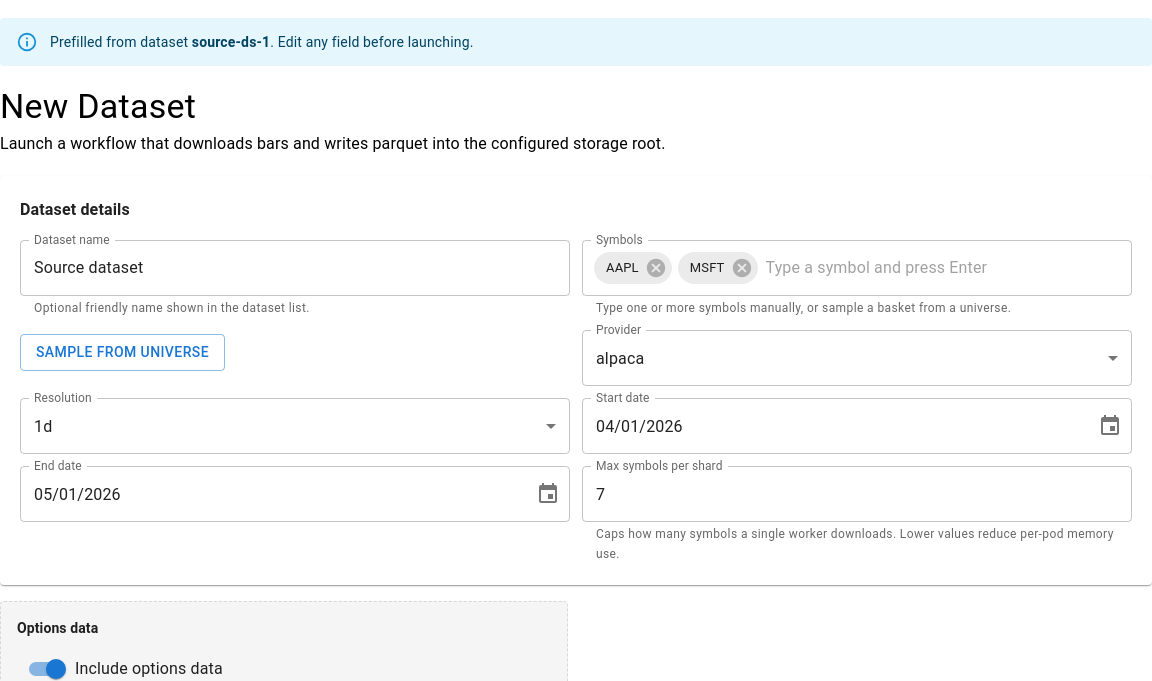
Scenario: DatasetWizardPage › prefills from an existing dataset and submits an edited copy
Expected: the message reads "Prefilled from dataset source-ds-1. Edit any field before launching.", 0,18 -> 1151,66
Replace the text in the field labelled "Dataset name" with "Edited dataset" at (295, 268), box 20,240 -> 570,296
(page scrolled)
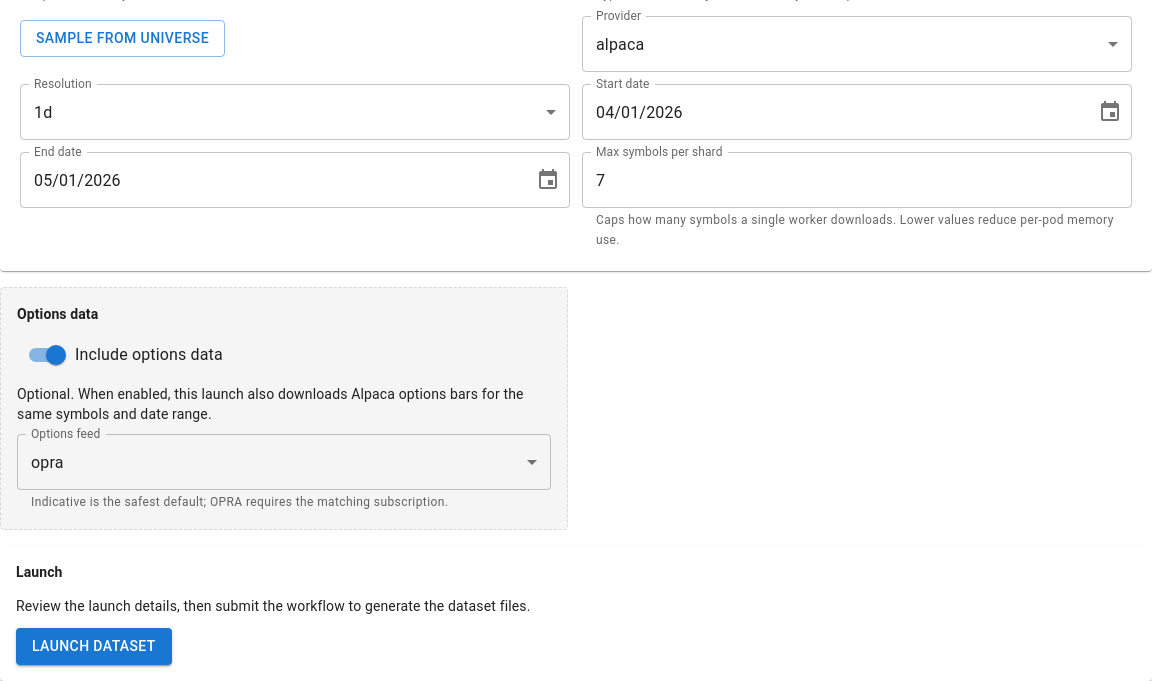
Click the button "Launch dataset" at (94, 646), box 16,628 -> 172,665
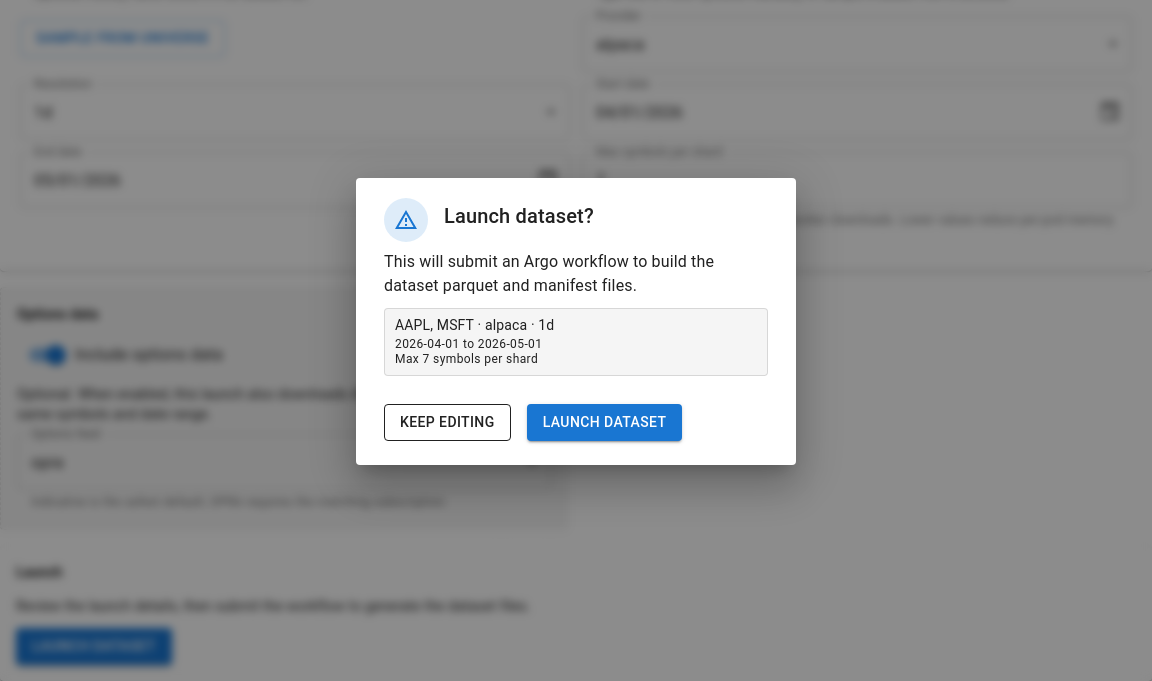
Click the button "Launch dataset" at (605, 422), box 527,404 -> 682,440
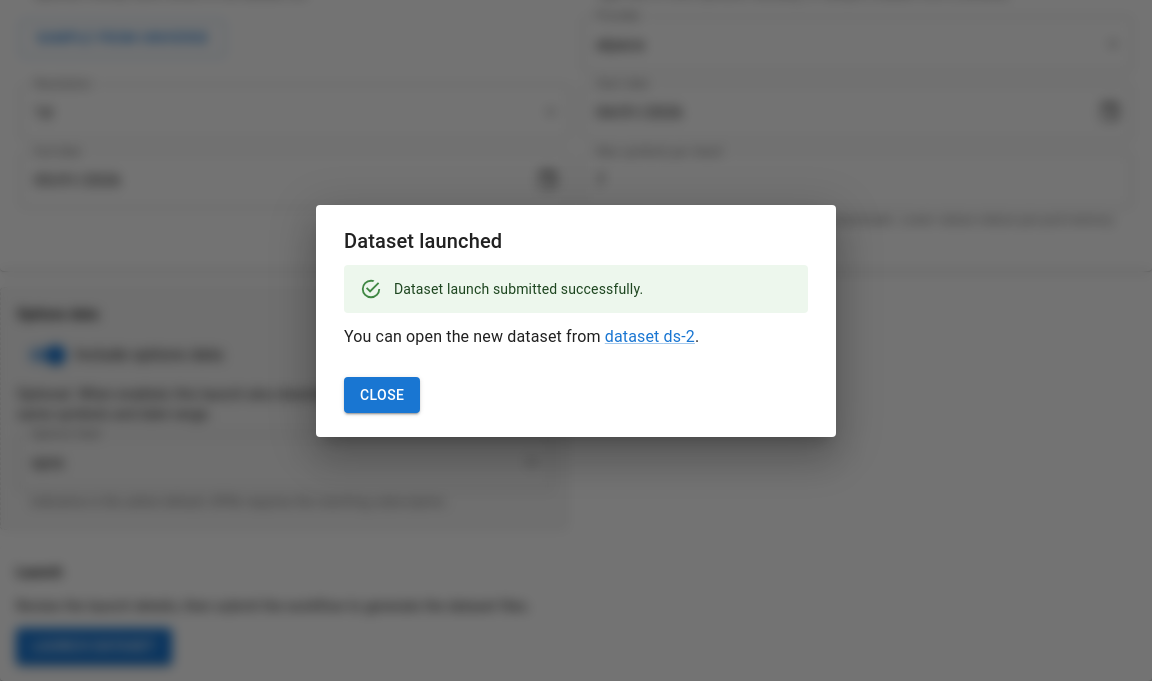
Expected: the heading "Dataset launched" is shown, 344,229 -> 502,253
